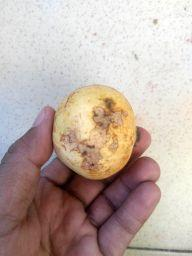guava: (51, 81, 137, 181)
